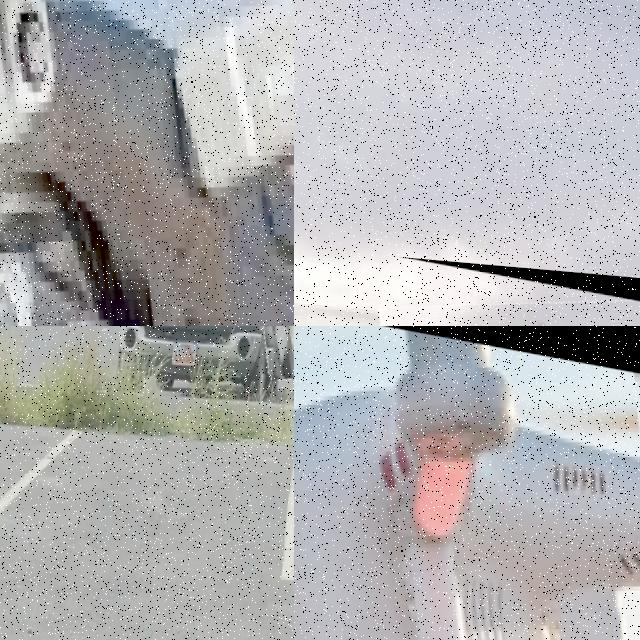0: (294, 326, 640, 640)
drone: (0, 0, 294, 326)
